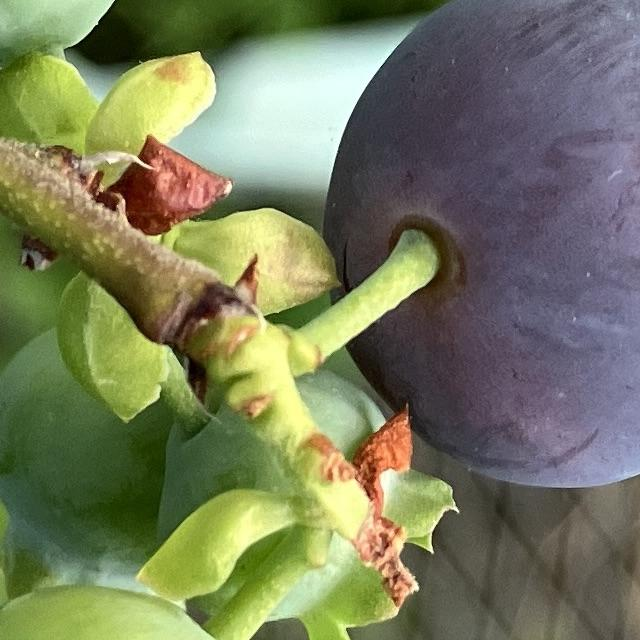Blueberries: (317, 0, 640, 491)
